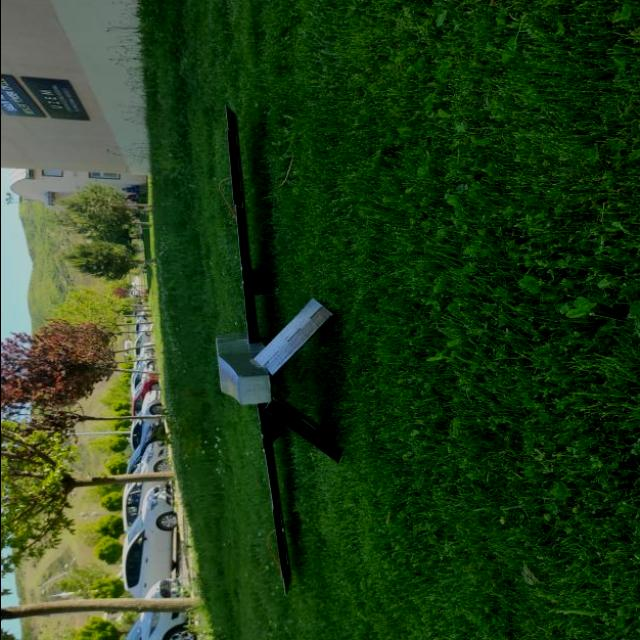plane: (212, 104, 342, 598)
